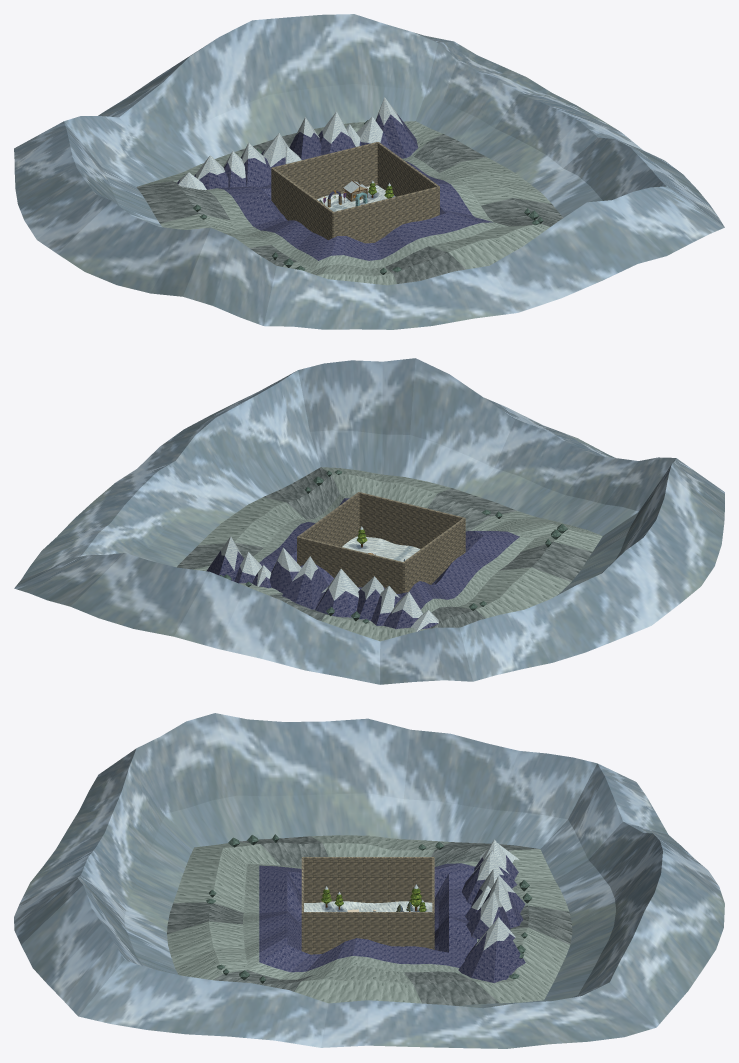
The model's file is RimePost.fbx.
The picture shows the model from 3 angles, top to bottom: view 1: azimuth 30°, elevation 25°; view 2: azimuth 150°, elevation 25°; view 3: azimuth 270°, elevation 25°; orthographic projection. The views are drawn at different scales.
Visible parts, largest first — view 1: Surroundings, Rim, C_Solids, Set, Terrain; view 2: Surroundings, Rim, C_Solids, Terrain; view 3: Surroundings, Rim, C_Solids, Terrain, Set.
Boxes of the visible parts, box(x1,y1,x2,y2) form: Surroundings: box(14, 14, 724, 329); Rim: box(177, 97, 493, 260); C_Solids: box(271, 142, 439, 243); Set: box(319, 179, 393, 207); Terrain: box(317, 185, 395, 211); Surroundings: box(14, 358, 724, 684); Rim: box(206, 498, 519, 631); C_Solids: box(297, 492, 465, 593); Terrain: box(342, 536, 420, 561); Surroundings: box(14, 713, 724, 1048); Rim: box(259, 839, 525, 982); C_Solids: box(301, 857, 434, 954); Terrain: box(304, 901, 432, 911); Set: box(321, 884, 426, 911).
Bounding box in the file's own units: 21845 × 3825 × 22204.
